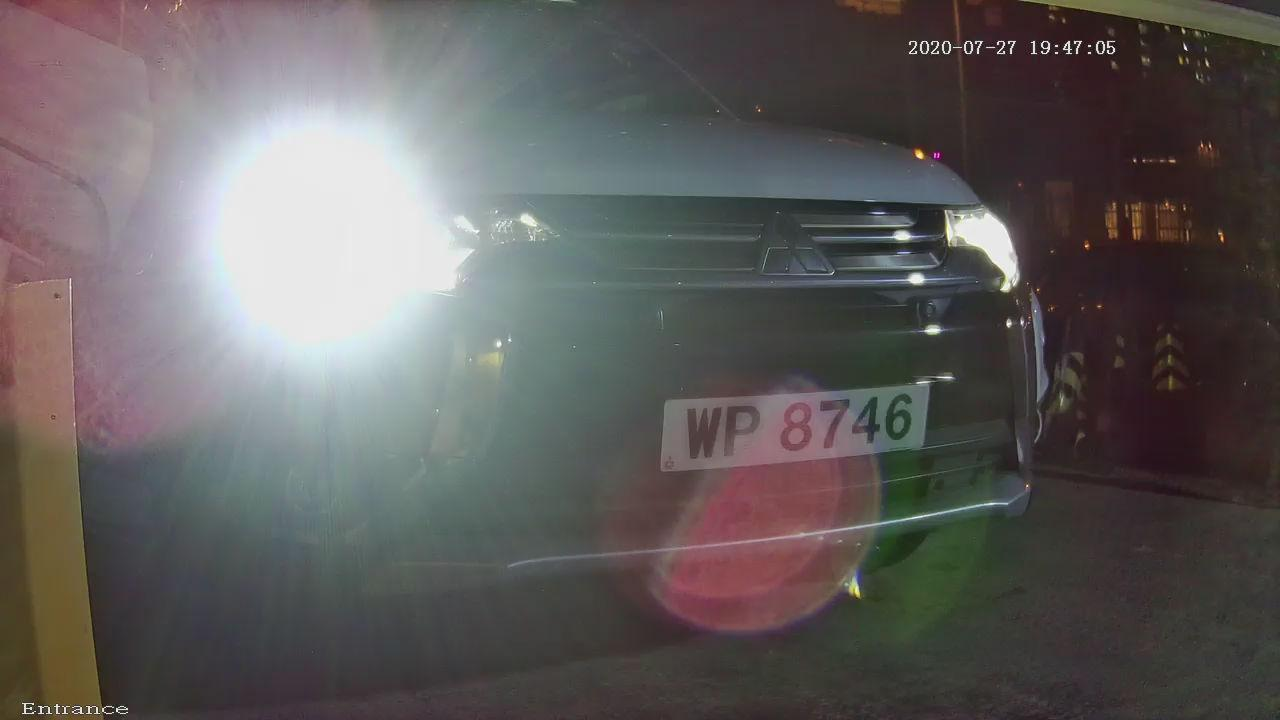privatecar: (47, 2, 1132, 652)
